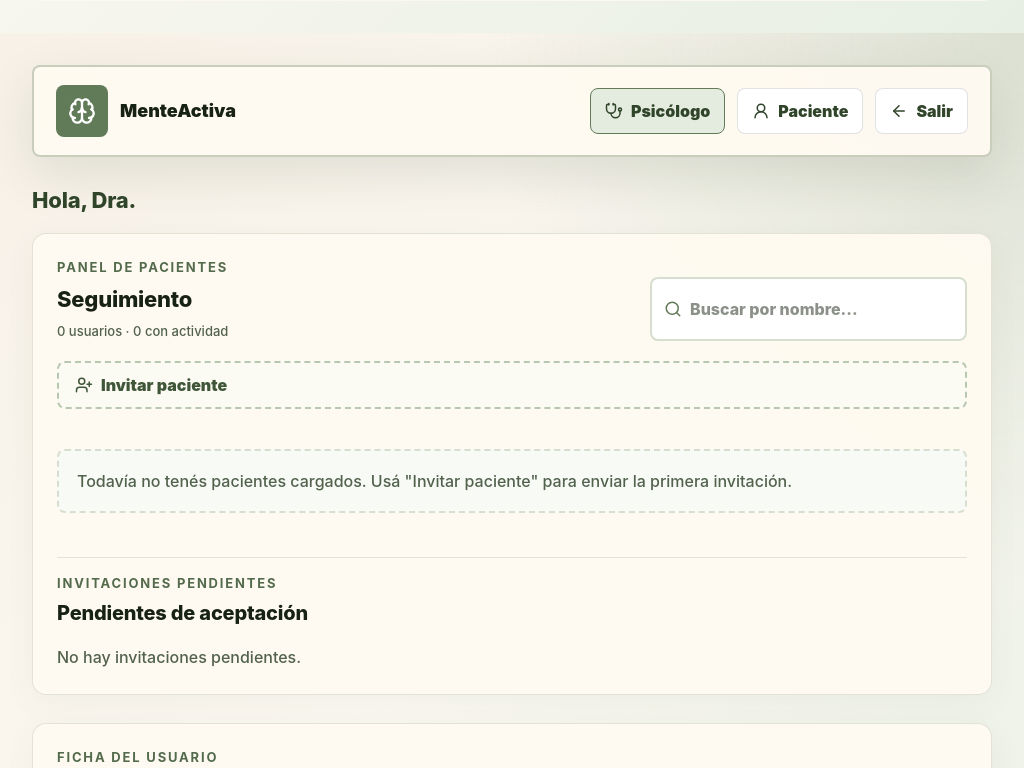
Test: MenteActiva critical flows › invite form shows validation errors for invalid email and age
The width and height of the screenshot is (1024, 768).
(page scrolled)
Click the button "Invitar paciente": x=164, y=385 [57,361,967,409]
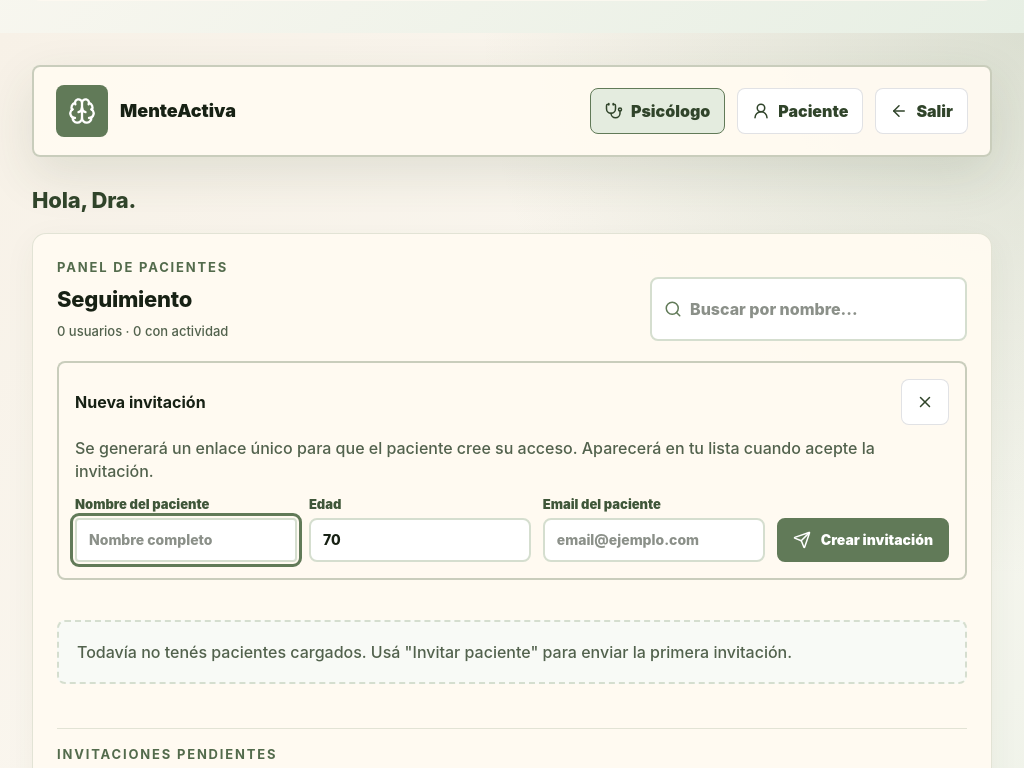
In the field labelled "Nombre del paciente": x=186, y=540 [75,518,297,562], type "Maria Perez"
In the field labelled "Email del paciente": x=654, y=540 [543,518,765,562], type "not-an-email"
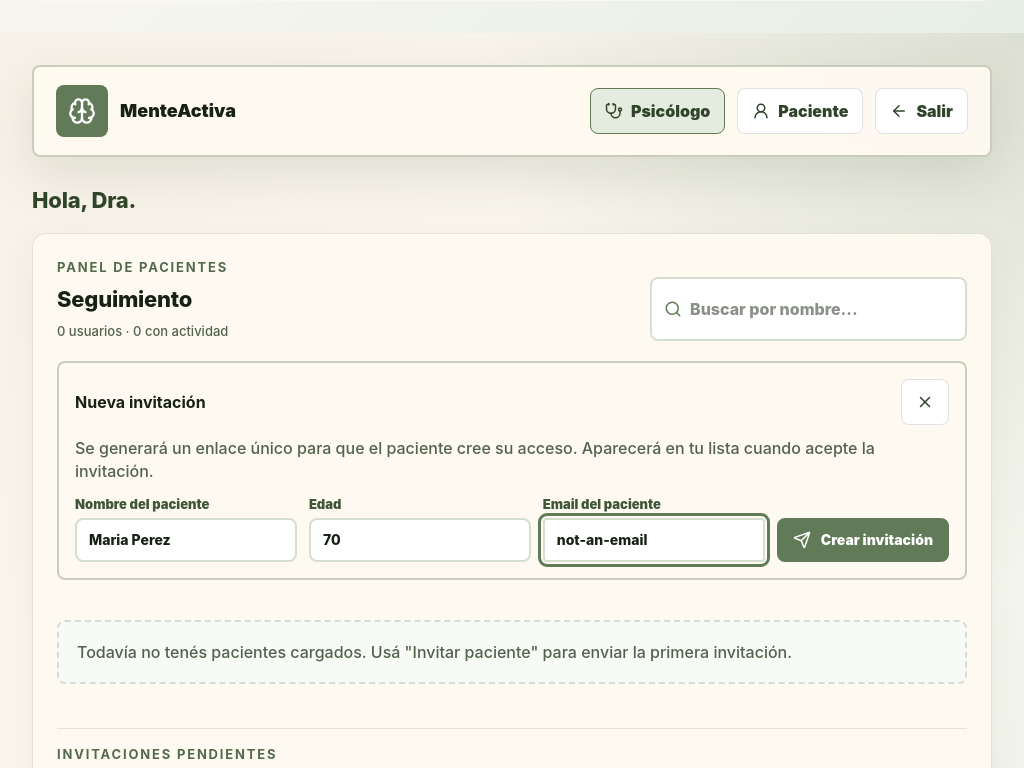
Click the button "Crear invitación": x=863, y=540 [777,518,949,562]
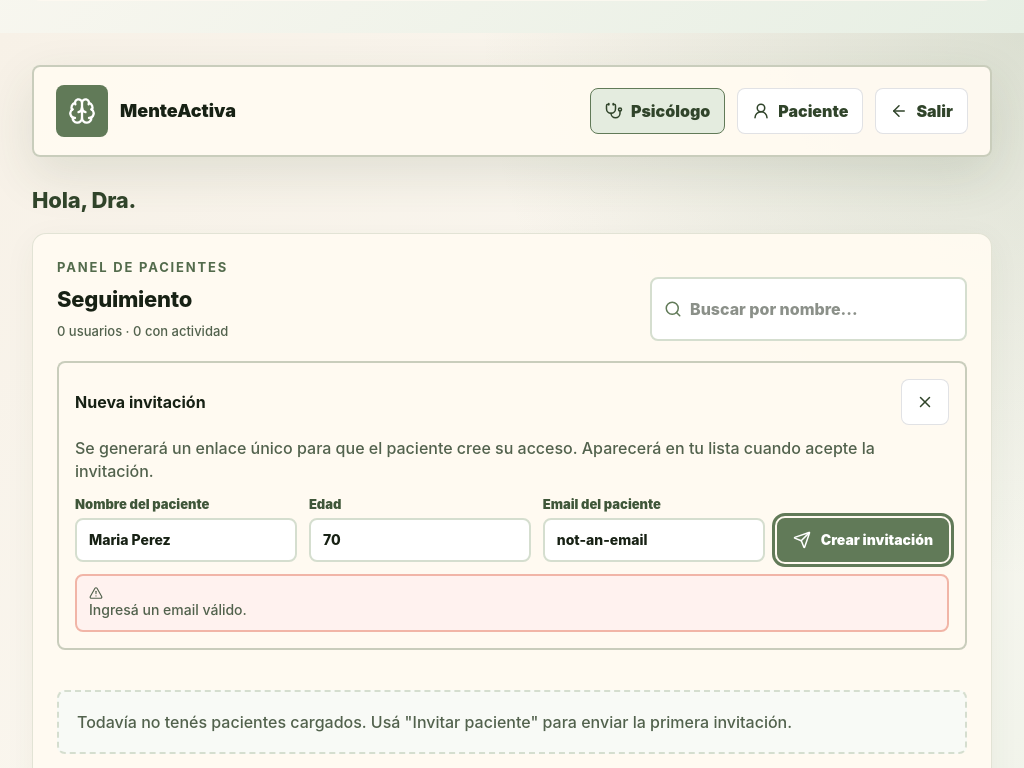
expect the message shows "email válido": met, box [89,601,247,618]
Replace the text in the field labelled "Email del paciente" with "maria.perez@demo.com": x=654, y=540 [543,518,765,562]
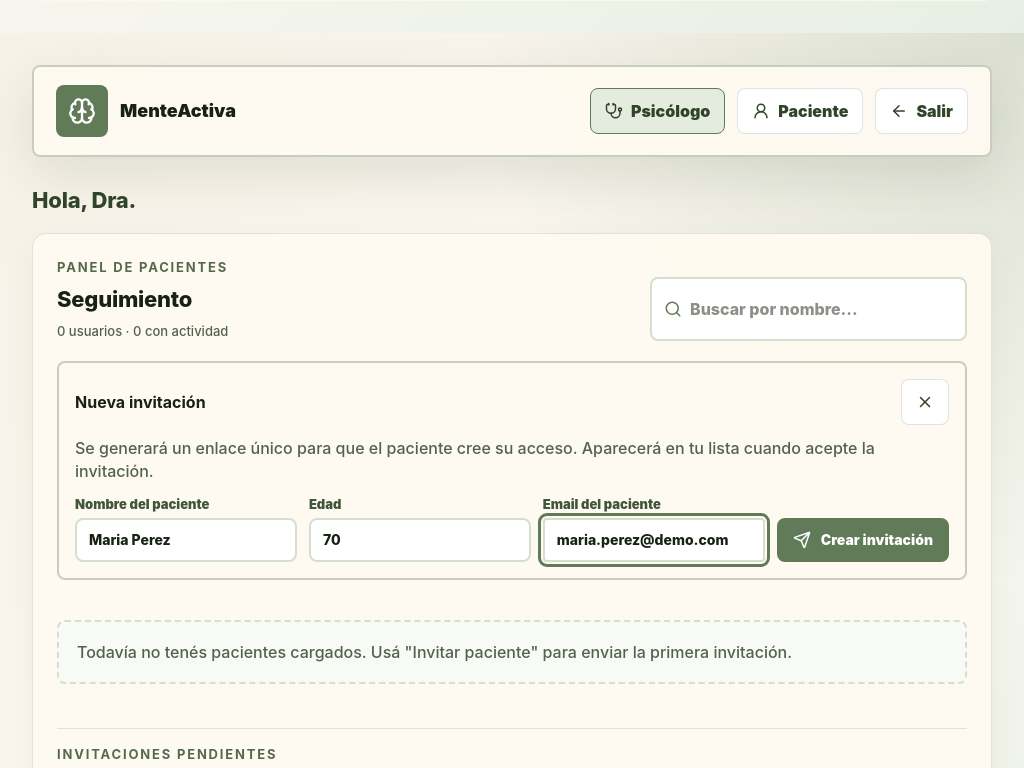
Replace the text in the number field labelled "Edad" with "300": x=420, y=540 [309,518,531,562]
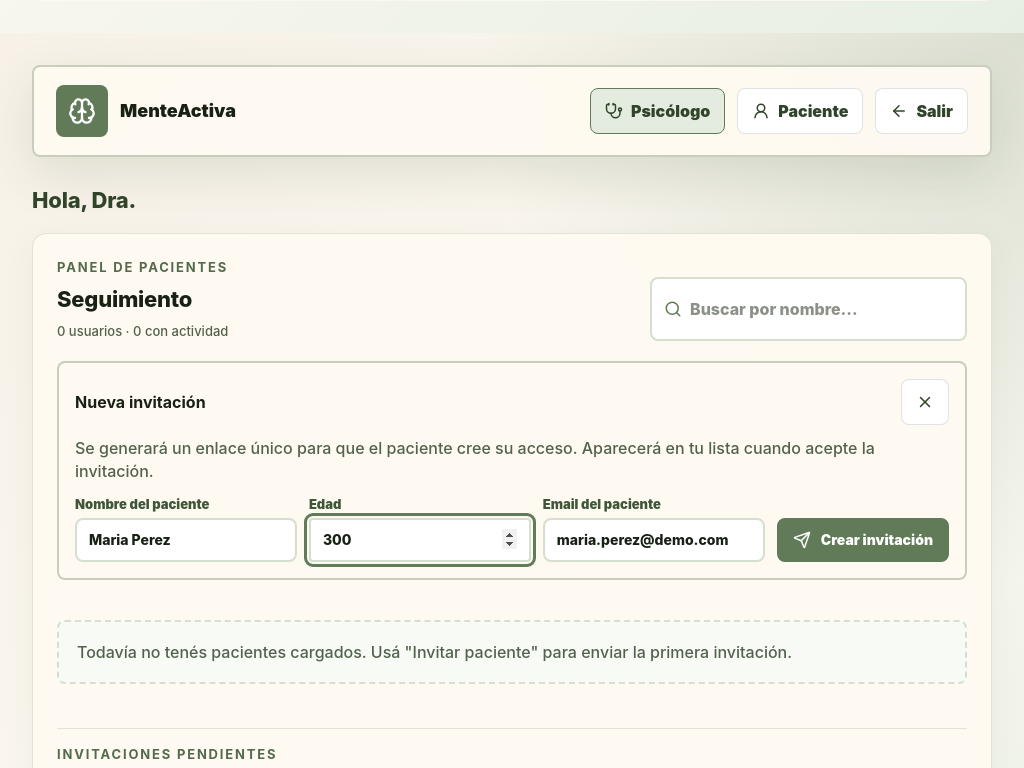
Click the button "Crear invitación": x=863, y=540 [777,518,949,562]
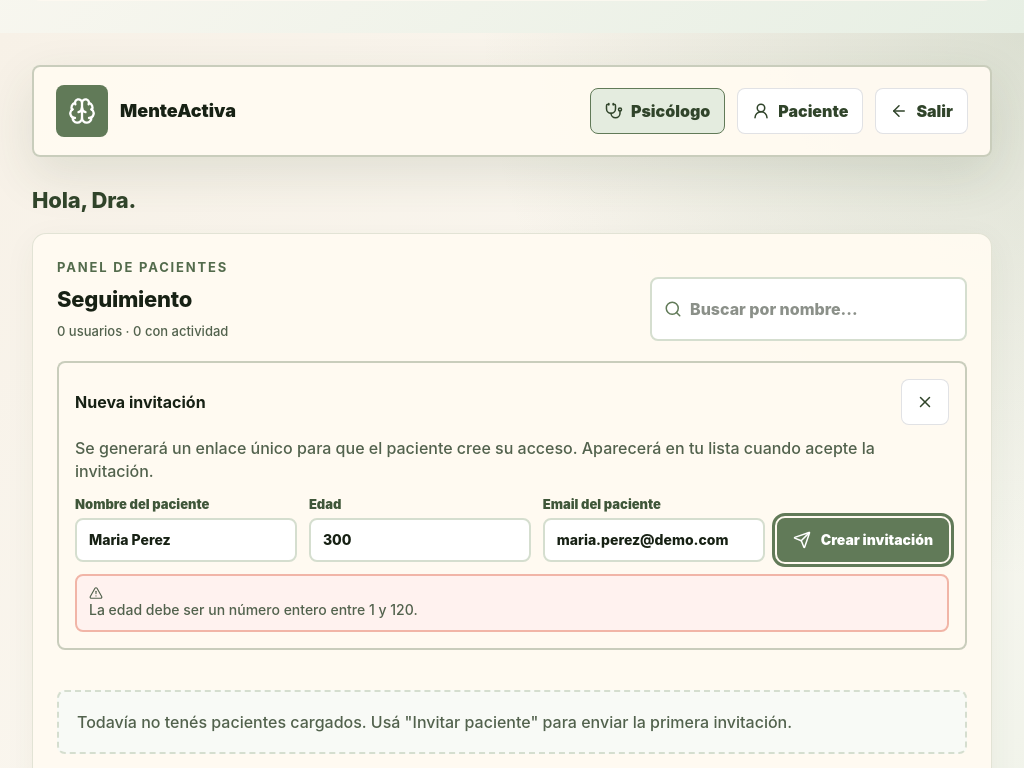
expect the message reads "La edad debe ser un número entero entre 1 y 120.": met, box [89,601,418,618]
